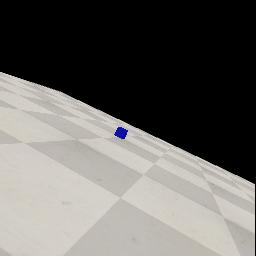box: (114, 127, 128, 139)
